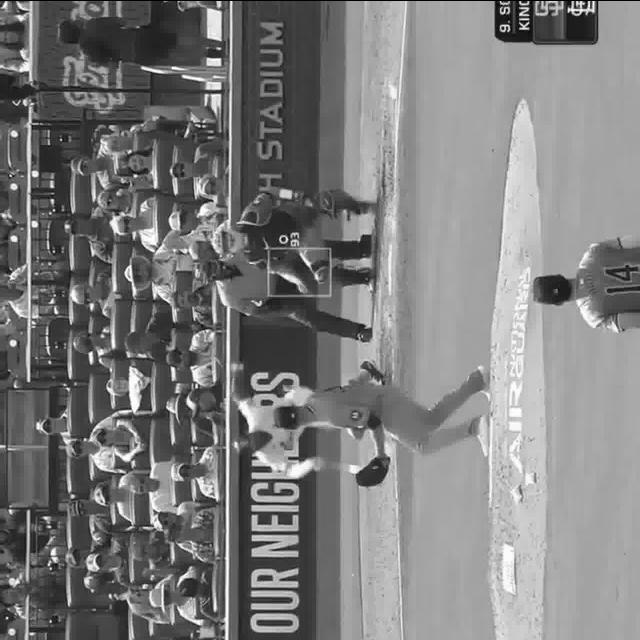base: (386, 242, 396, 296)
baseball_glove: (353, 451, 393, 486), (316, 194, 336, 214)
shoe: (476, 364, 494, 402), (476, 414, 490, 456), (360, 359, 384, 382), (364, 264, 374, 290), (364, 198, 378, 216)
